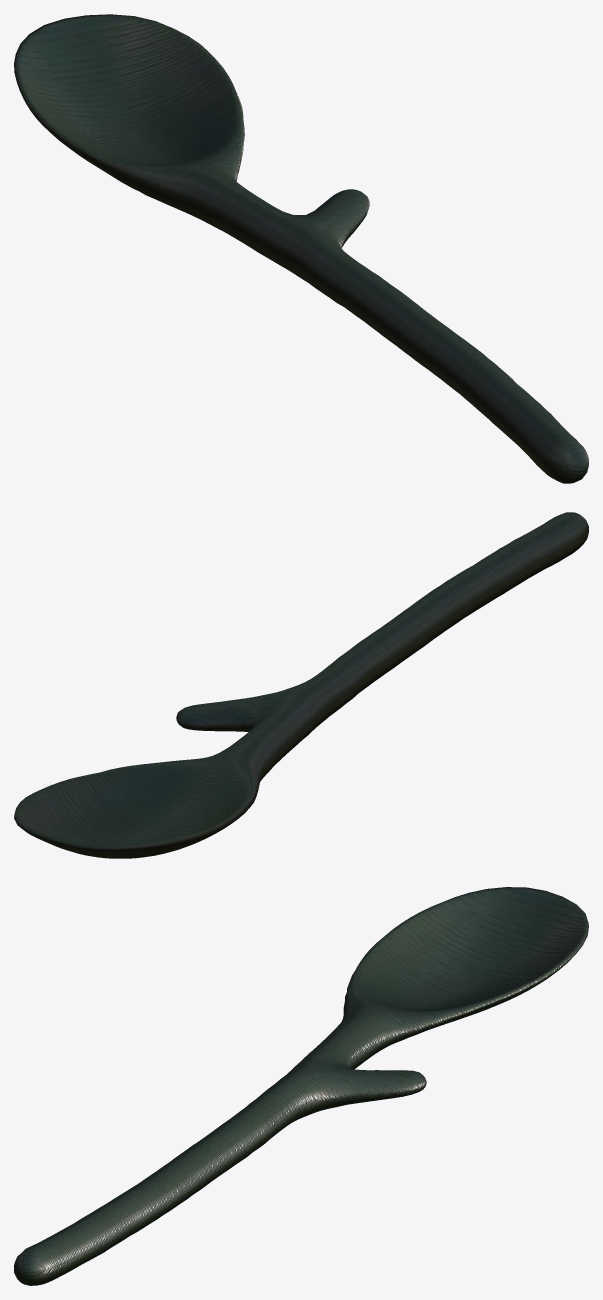
Rendered from 11_Branch.glb.
3 renders of one model, top to bottom at view 1: azimuth 30°, elevation 25°; view 2: azimuth 150°, elevation 25°; view 3: azimuth 330°, elevation 25°, orthographic. The views are drawn at different scales.
Parts seen in each view (by area): view 1: 11_Branch; view 2: 11_Branch; view 3: 11_Branch.
Boxes of the visible parts, bbox=[...] form: 11_Branch: bbox=[14, 14, 588, 483]; 11_Branch: bbox=[14, 512, 588, 858]; 11_Branch: bbox=[14, 887, 588, 1285].
Size of the model in its own units: 0.0443 by 0.0145 by 0.2242.
Materials: 1 (1 with a texture image).
